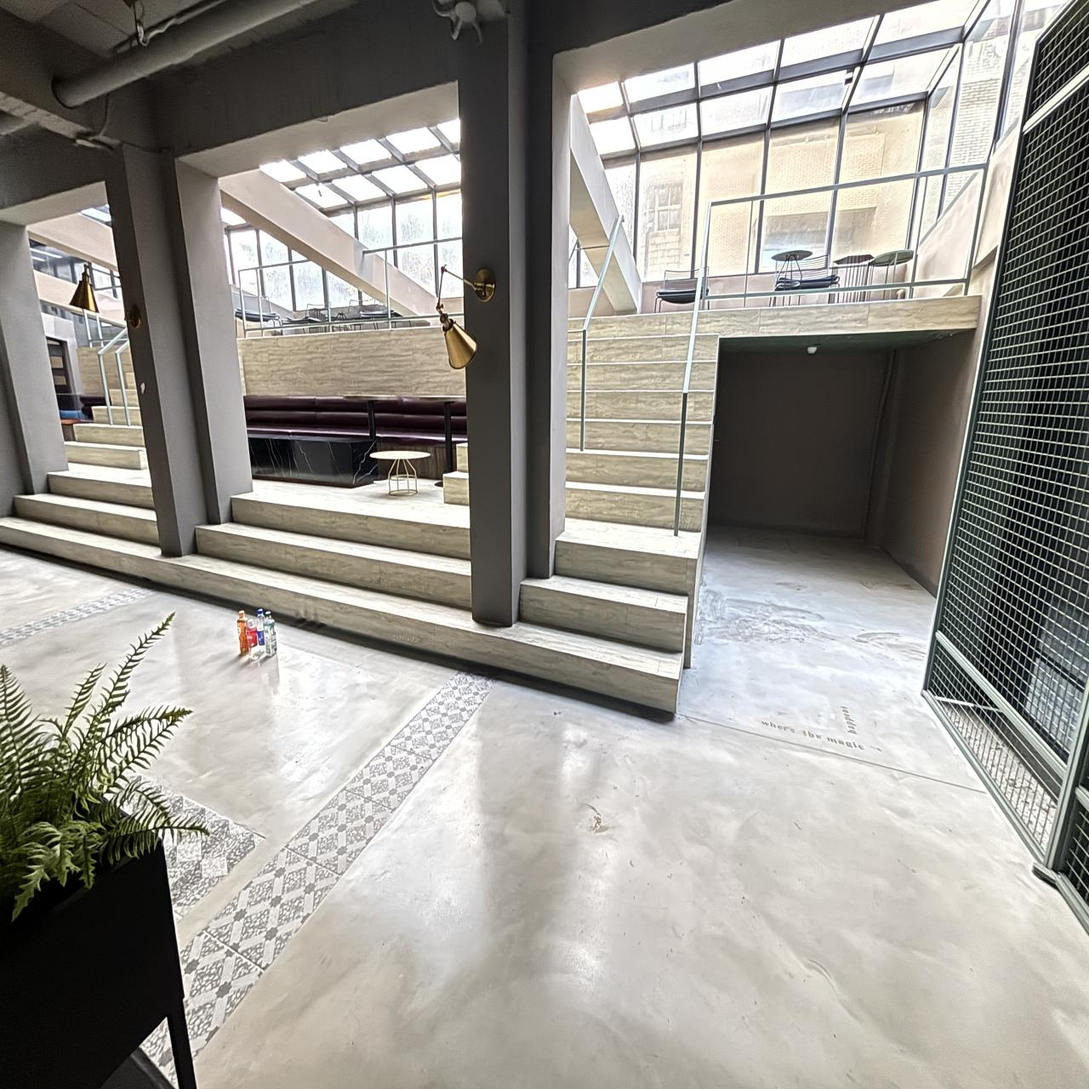plastic-bottle: (265, 613, 277, 657), (247, 617, 259, 659), (237, 611, 248, 653), (257, 609, 265, 657)
